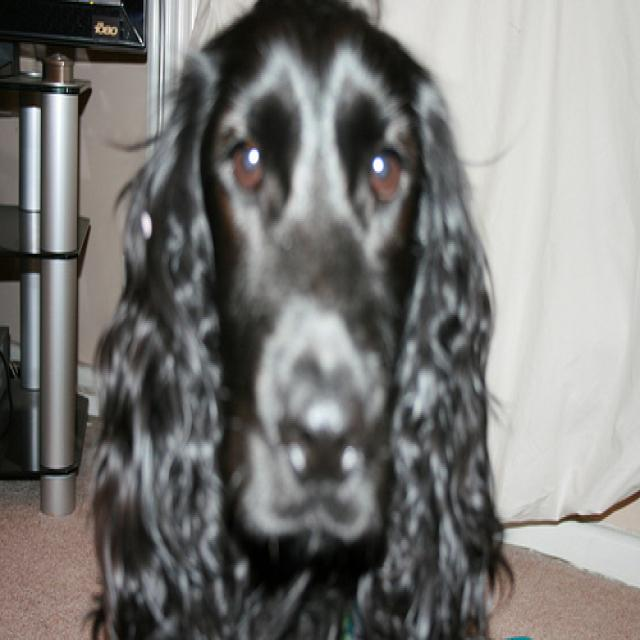dog-english_cocker_spaniel: (70, 2, 518, 636)
